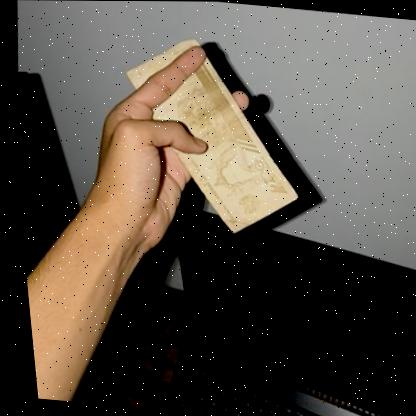five-back-vef: (107, 32, 311, 241)
